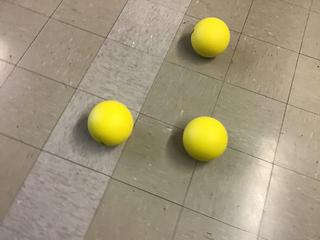power_cell: (180, 115, 231, 167), (86, 99, 135, 150), (188, 15, 234, 58)
